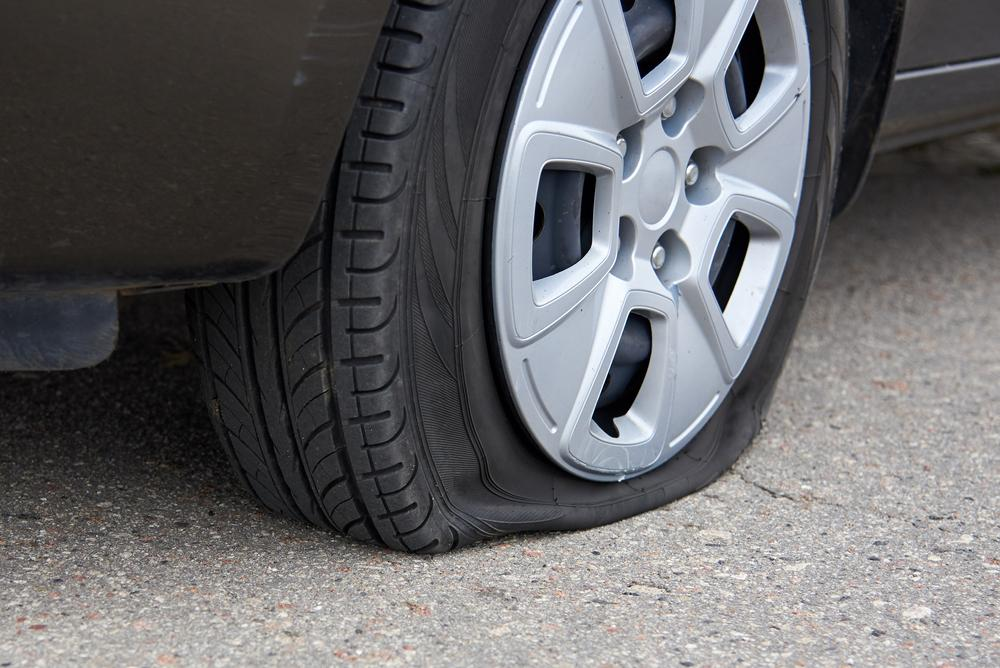tire flat: (187, 0, 850, 555)
